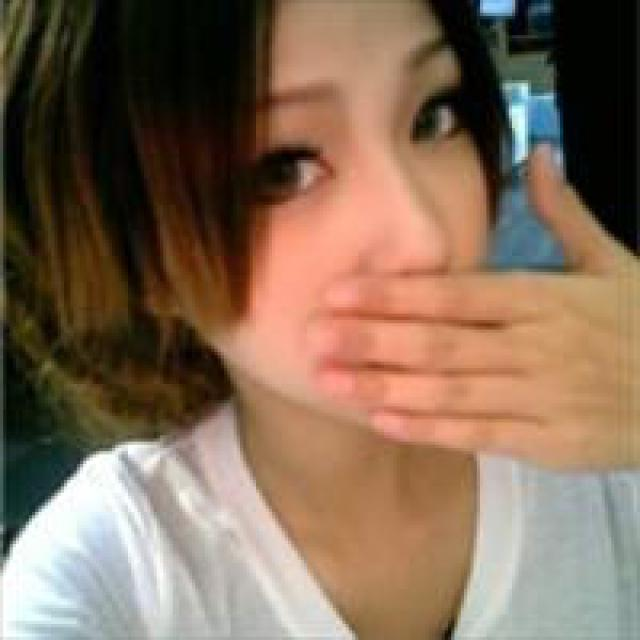nomask: (187, 3, 498, 419)
